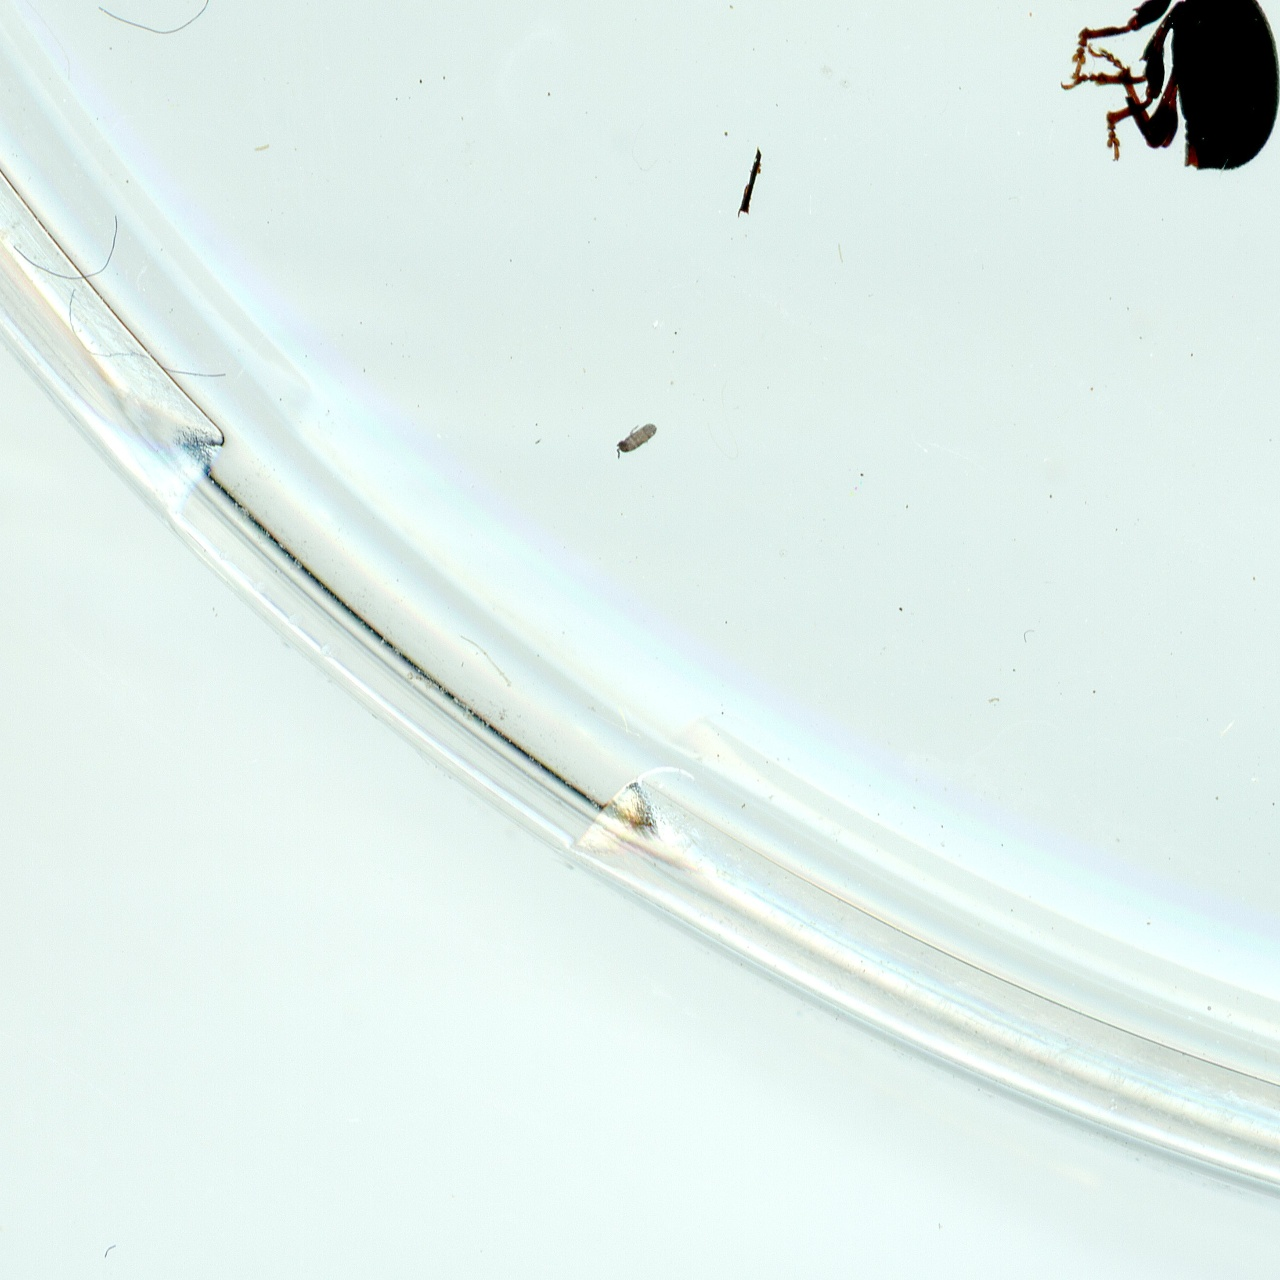arthropod: (1055, 0, 1280, 181), (612, 418, 662, 464)
